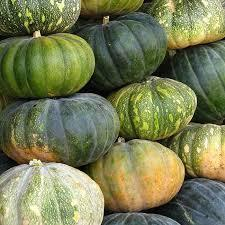peas: (0, 0, 224, 224)
pumpkin: (0, 92, 120, 167), (74, 11, 167, 91), (87, 138, 185, 212), (0, 158, 104, 224), (0, 30, 95, 98), (106, 75, 197, 140), (169, 37, 224, 124), (146, 0, 224, 49), (147, 176, 224, 224), (168, 122, 224, 185), (0, 0, 81, 36)
